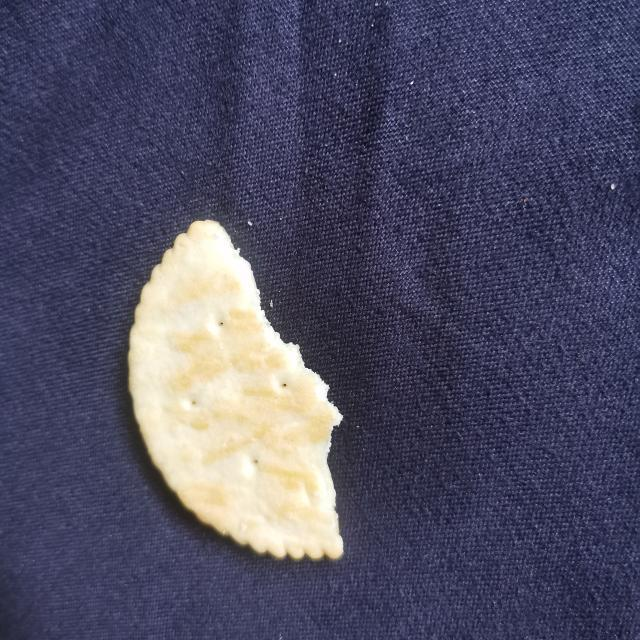Broken: (126, 218, 346, 562)
